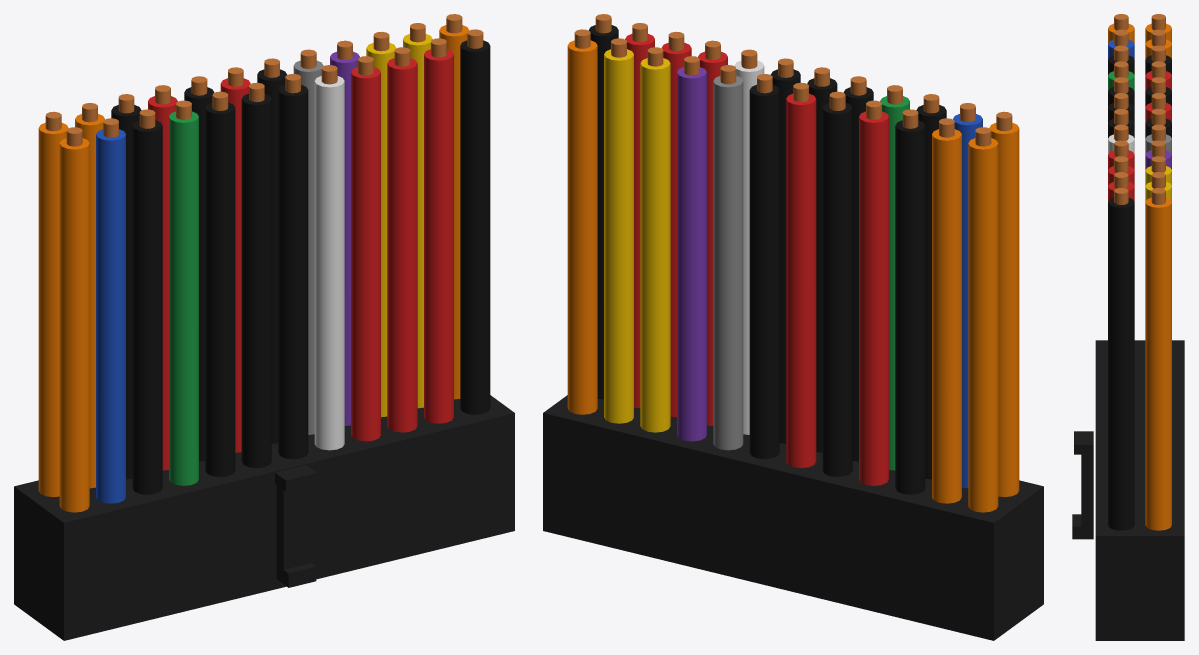
File: atx24.glb
The picture shows the model from 3 angles, left to right: view 1: azimuth 30°, elevation 25°; view 2: azimuth 150°, elevation 25°; view 3: azimuth 270°, elevation 25°; orthographic projection. The views are drawn at different scales.
Visible parts, largest first — view 1: cable_atx24; view 2: cable_atx24; view 3: cable_atx24.
Boxes of the visible parts, x1,y1,x2,y2 form: cable_atx24: (14,14,514,640); cable_atx24: (543,14,1043,640); cable_atx24: (1072,14,1184,640).
Size of the model in its own units: 0.2501 by 0.2638 by 0.0606.
